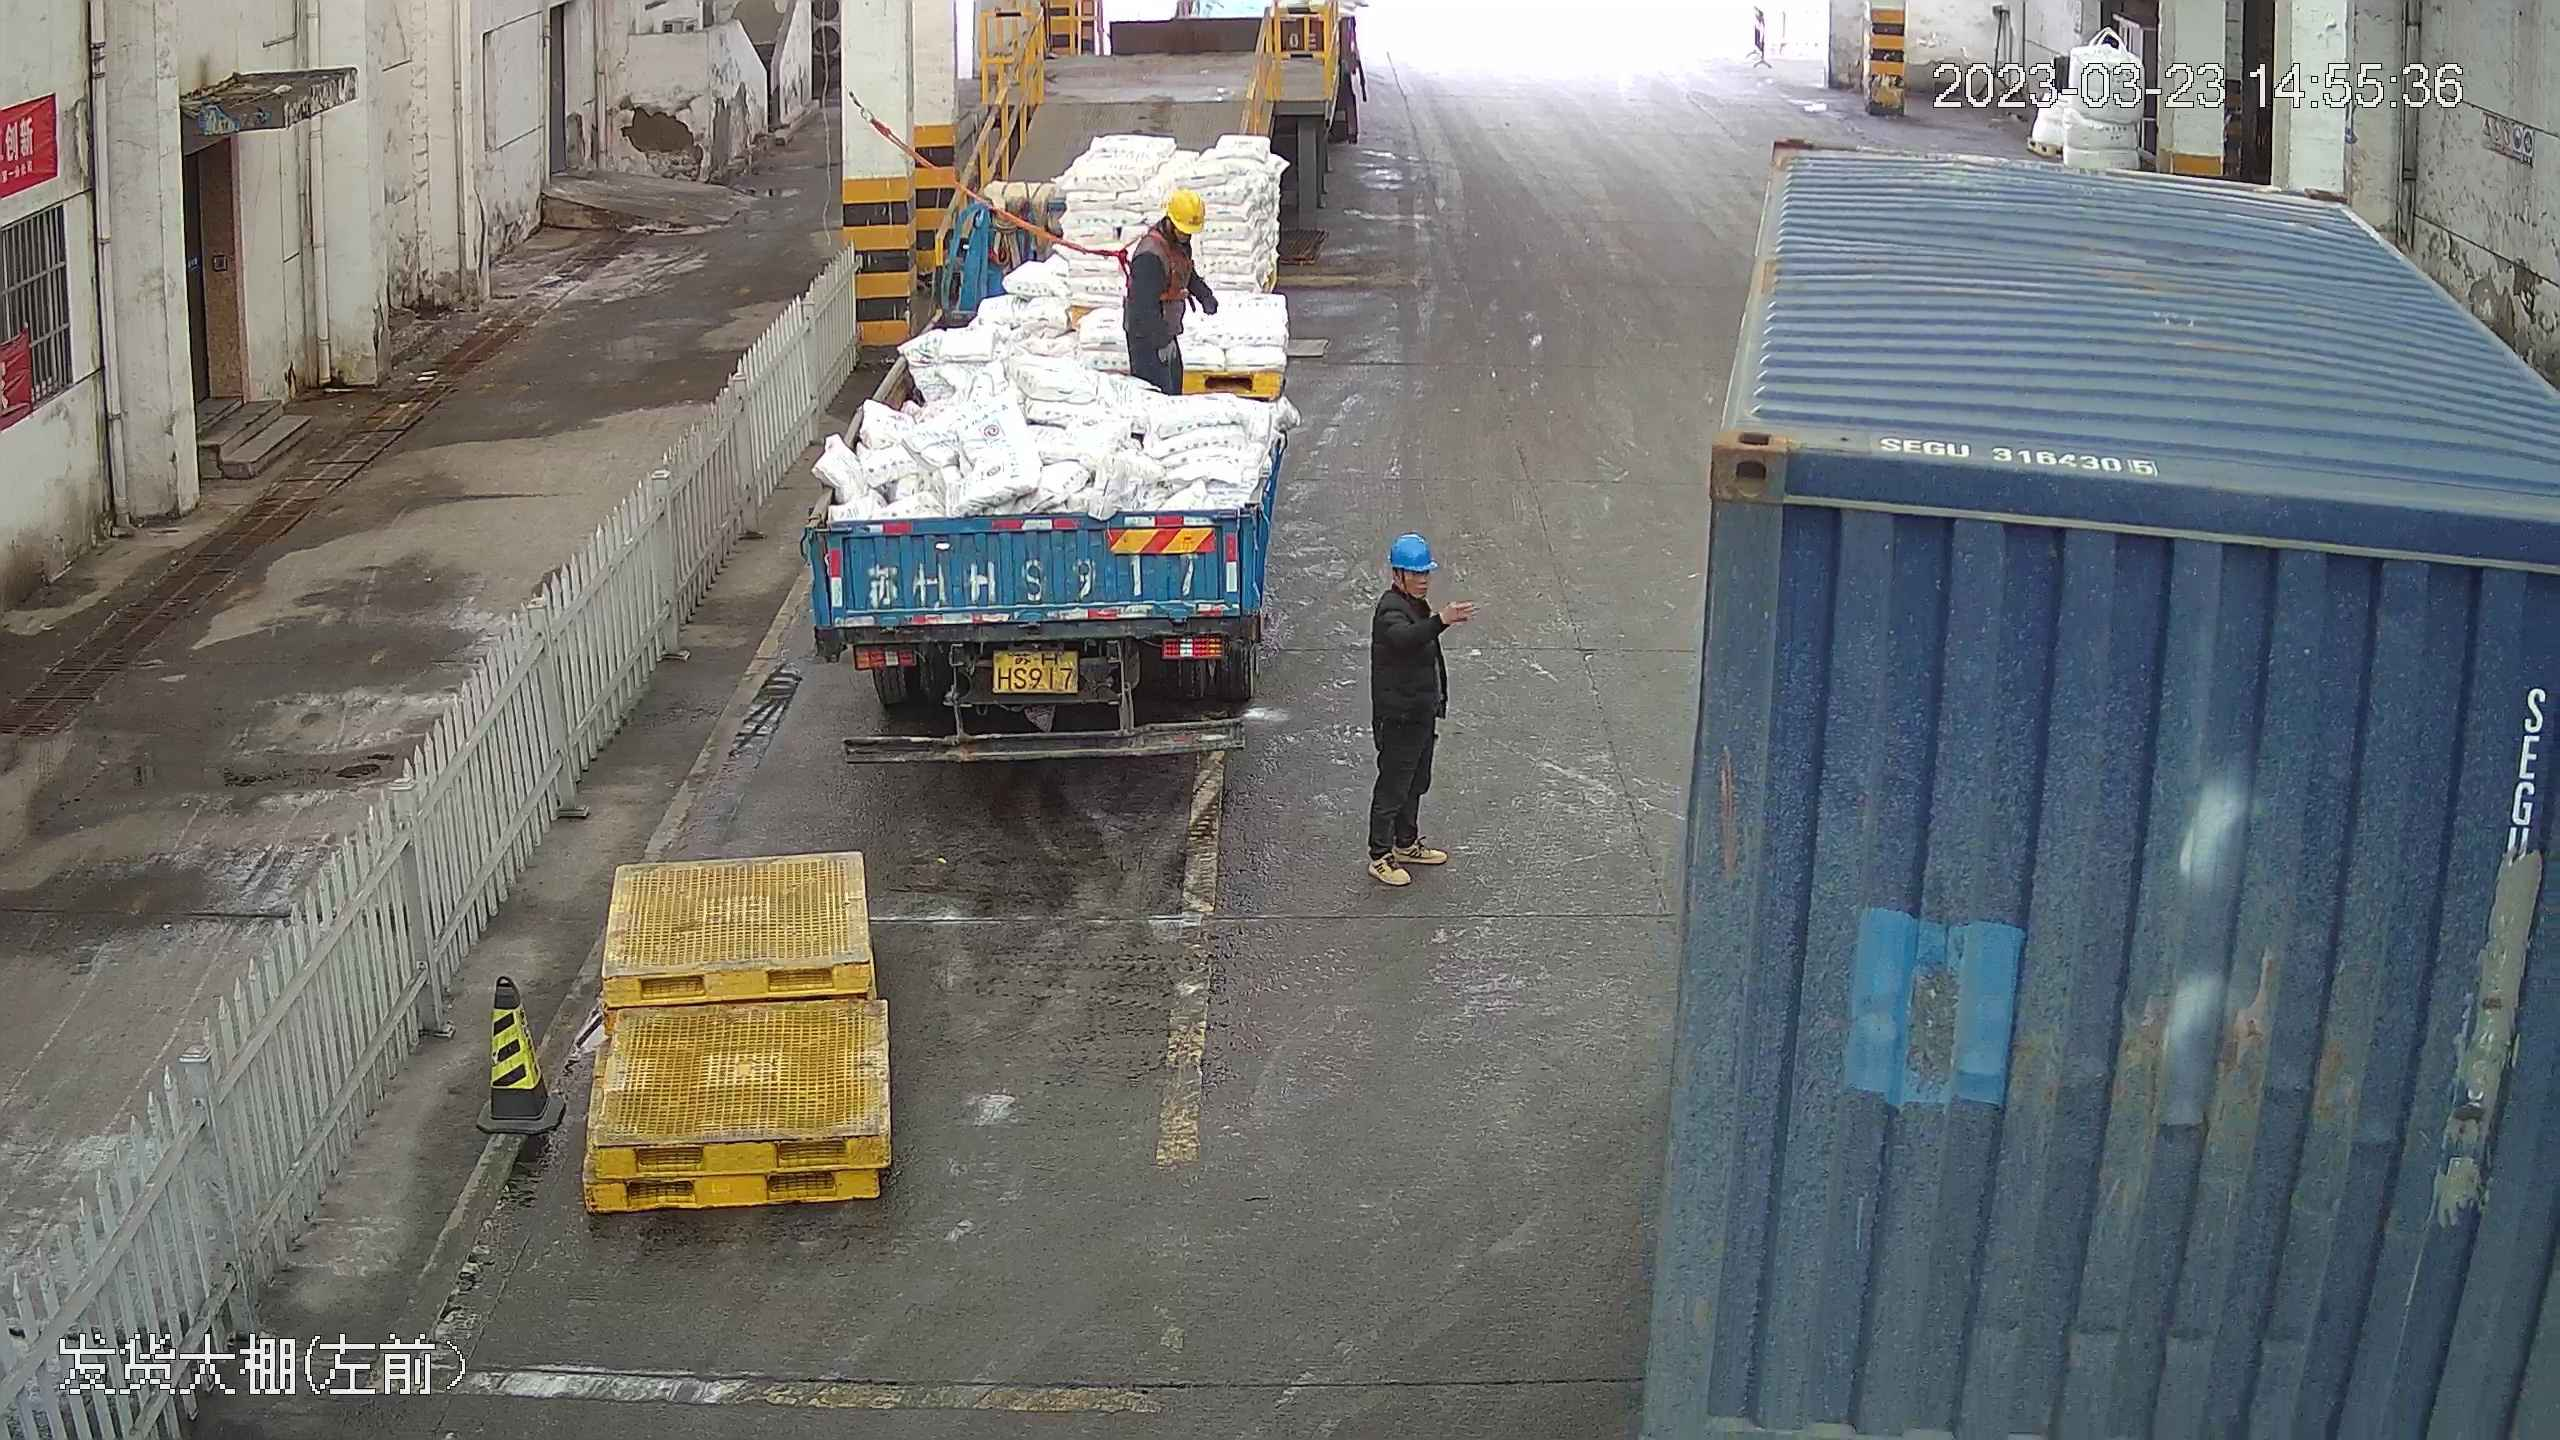belt: (1121, 226, 1194, 302)
head: (1369, 530, 1451, 635), (1127, 184, 1208, 266)
helmet: (1162, 183, 1209, 232), (1385, 531, 1433, 569)
people: (1355, 523, 1475, 884), (1119, 184, 1218, 401)
truck: (1633, 13, 2558, 1435), (799, 12, 1300, 751)
